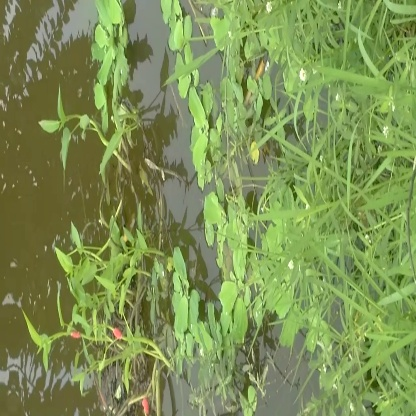grass: (45, 231, 179, 370)
